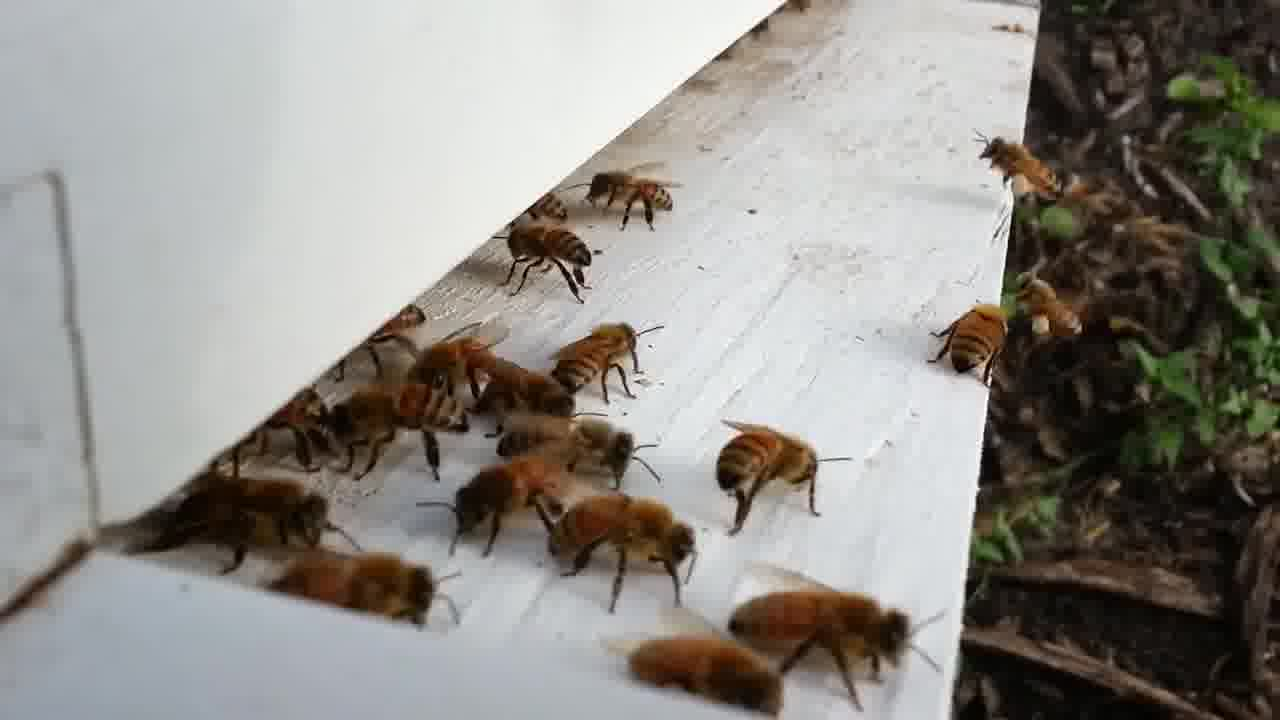pollen: (981, 136, 1063, 206), (1013, 270, 1082, 337)
